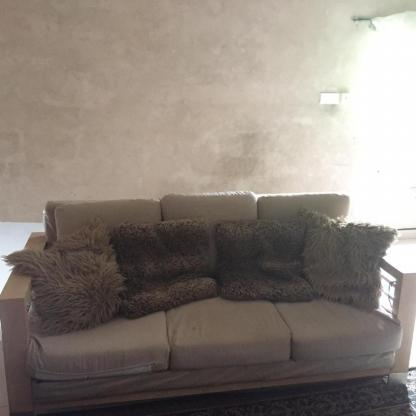Sofa: (2, 191, 413, 413)
